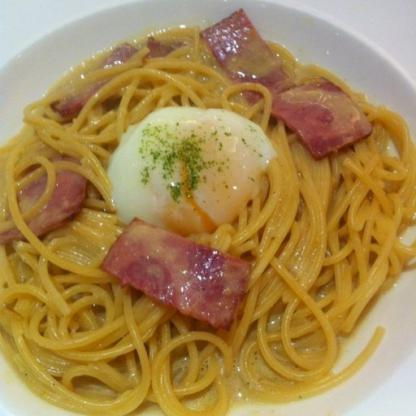pasta: (0, 28, 402, 415)
